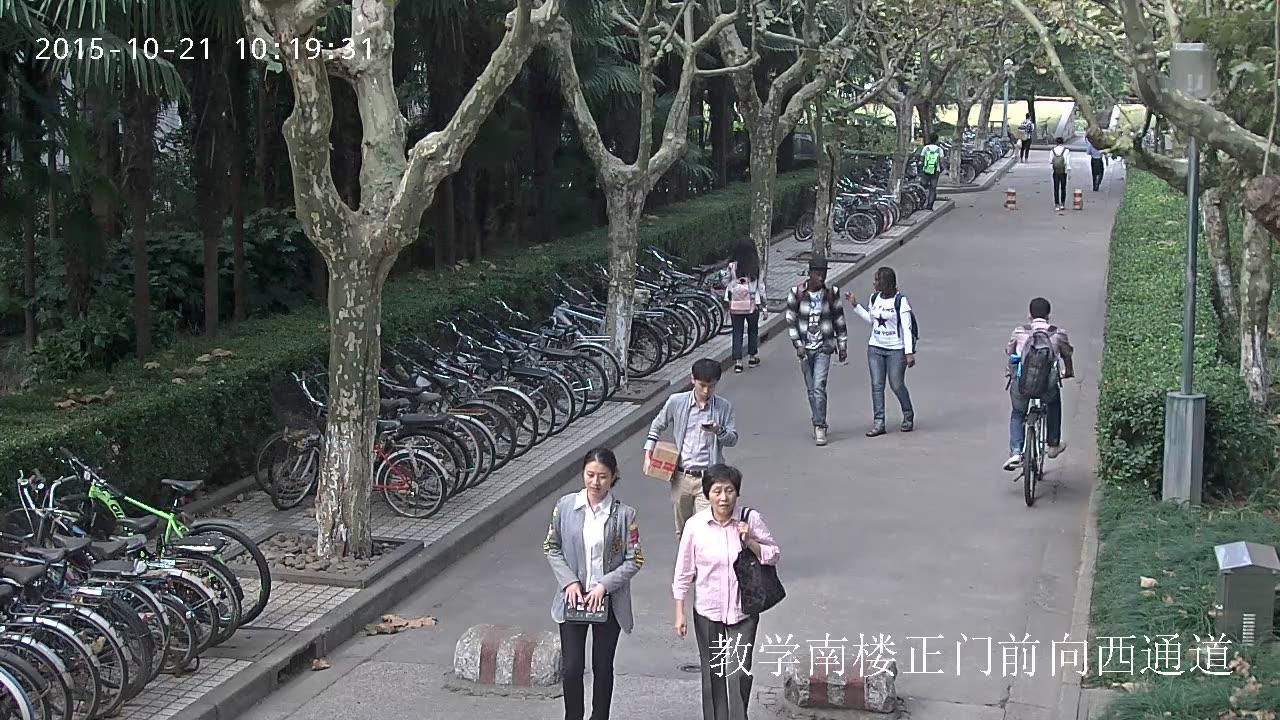person: (672, 463, 786, 720), (542, 447, 642, 720), (641, 358, 738, 561), (1002, 296, 1075, 506), (844, 267, 919, 436), (1002, 297, 1074, 472), (785, 257, 846, 445), (721, 239, 767, 373), (919, 132, 944, 209), (1048, 136, 1070, 211), (1086, 140, 1107, 191), (1018, 112, 1033, 163)
